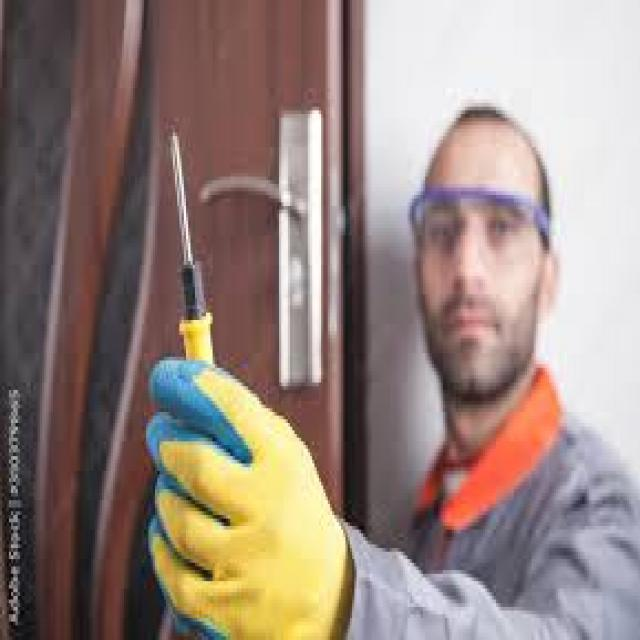screwdriver: (166, 112, 219, 396)
